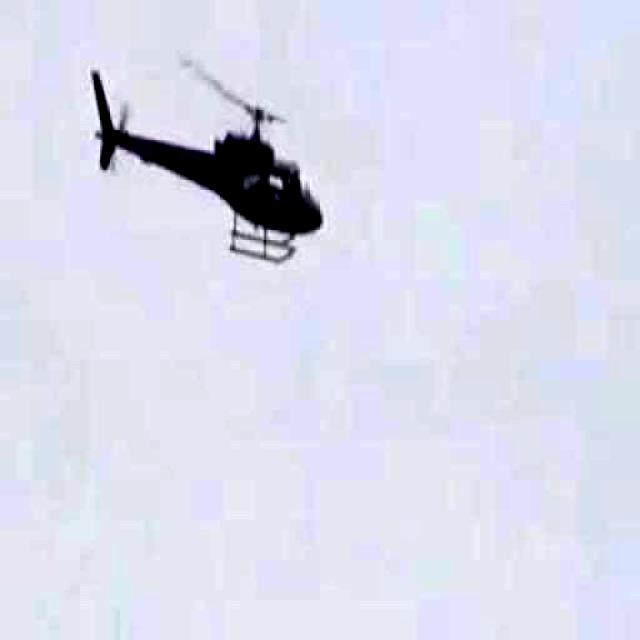drone: (89, 25, 329, 329)
